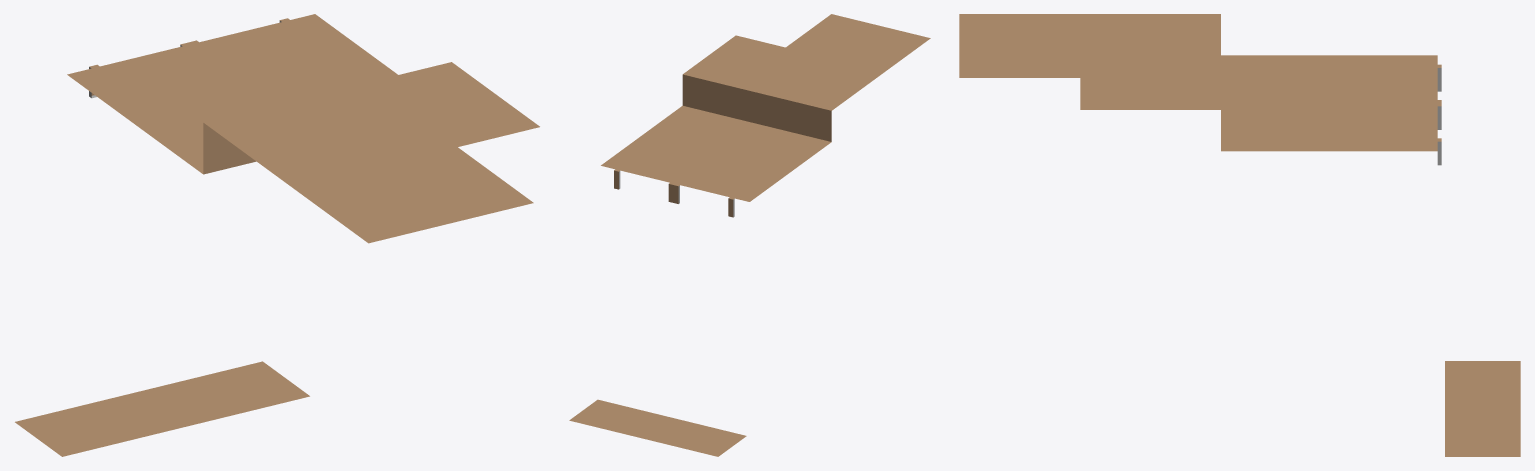
File: Bassin_L1.fbx
The picture shows the model from 3 angles, left to right: view 1: azimuth 30°, elevation 25°; view 2: azimuth 150°, elevation 25°; view 3: azimuth 270°, elevation 25°; orthographic projection. The views are drawn at different scales.
Visible parts, largest first — view 1: Bassin_L1; view 2: Bassin_L1; view 3: Bassin_L1.
Boxes of the visible parts, left/top/right/bottom form: Bassin_L1: left=15, top=14, right=539, bottom=456; Bassin_L1: left=569, top=14, right=930, bottom=456; Bassin_L1: left=959, top=14, right=1520, bottom=456.
Bounding box in the file's own units: 0.3 × 0.5053 × 0.7408.
